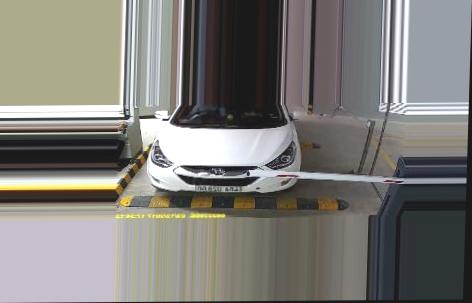License_Plate: (193, 181, 242, 195)
